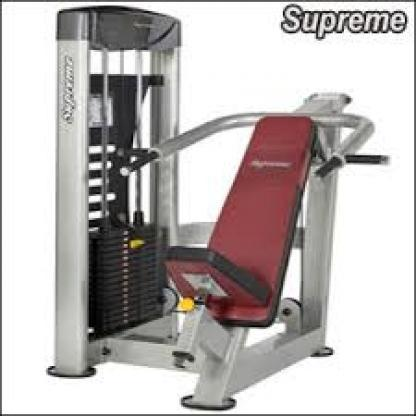shoulder press machine: (41, 3, 393, 411)
